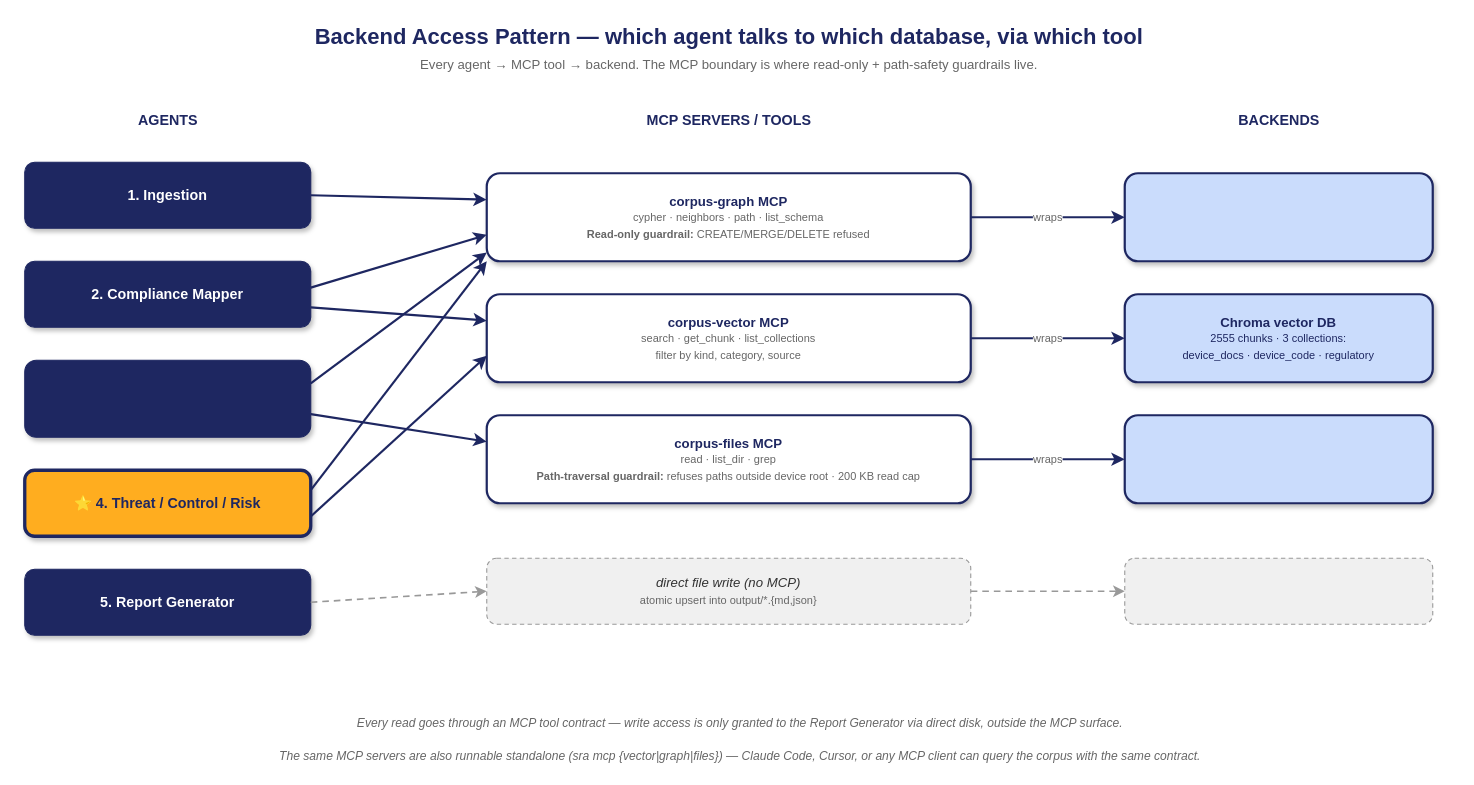
This 1474x785 diagram has some shape labels left out. The centre of each missing label's shape, as x and y in pixels:
3. Code Analysis (planner + Python grep + interpreter): the point at 168,400
Filesystem input/<device>/ — 140 files, 9.7 MB firmware/**/*.[ch] — 72 files: the point at 1279,460
Kuzu graph DB 2181 nodes · 1636 edges 11 node tables · 8 rel tables: the point at 1279,218
Local disk output/<device>_sra_draft.{md,json}: the point at 1278,590
